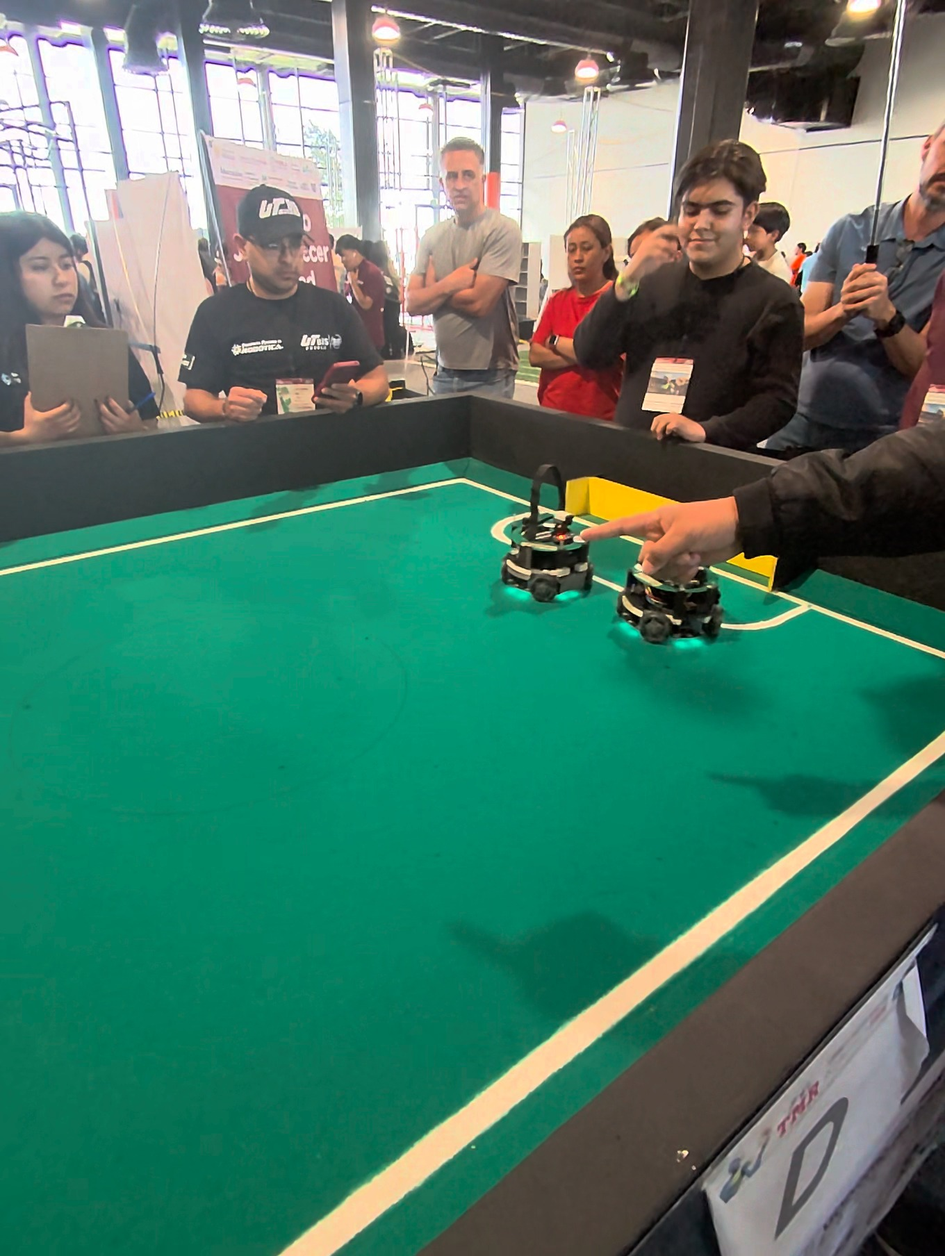Robot: (617, 515, 732, 653), (501, 460, 591, 613)
